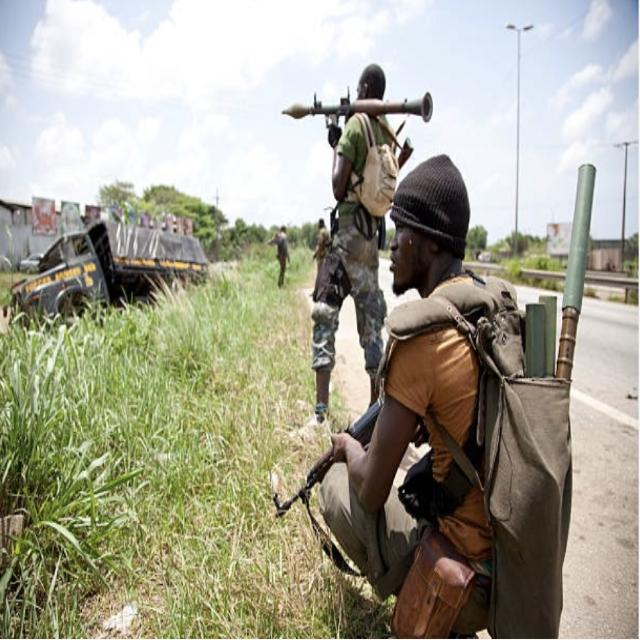bazooka: (285, 78, 441, 155)
